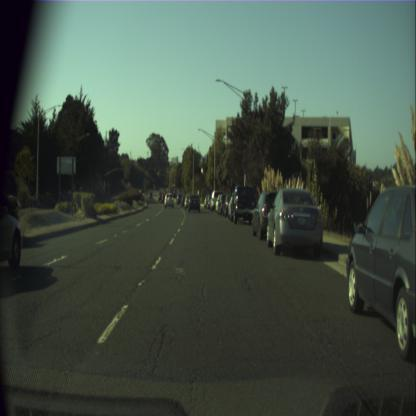Red: (173, 182, 175, 187)
